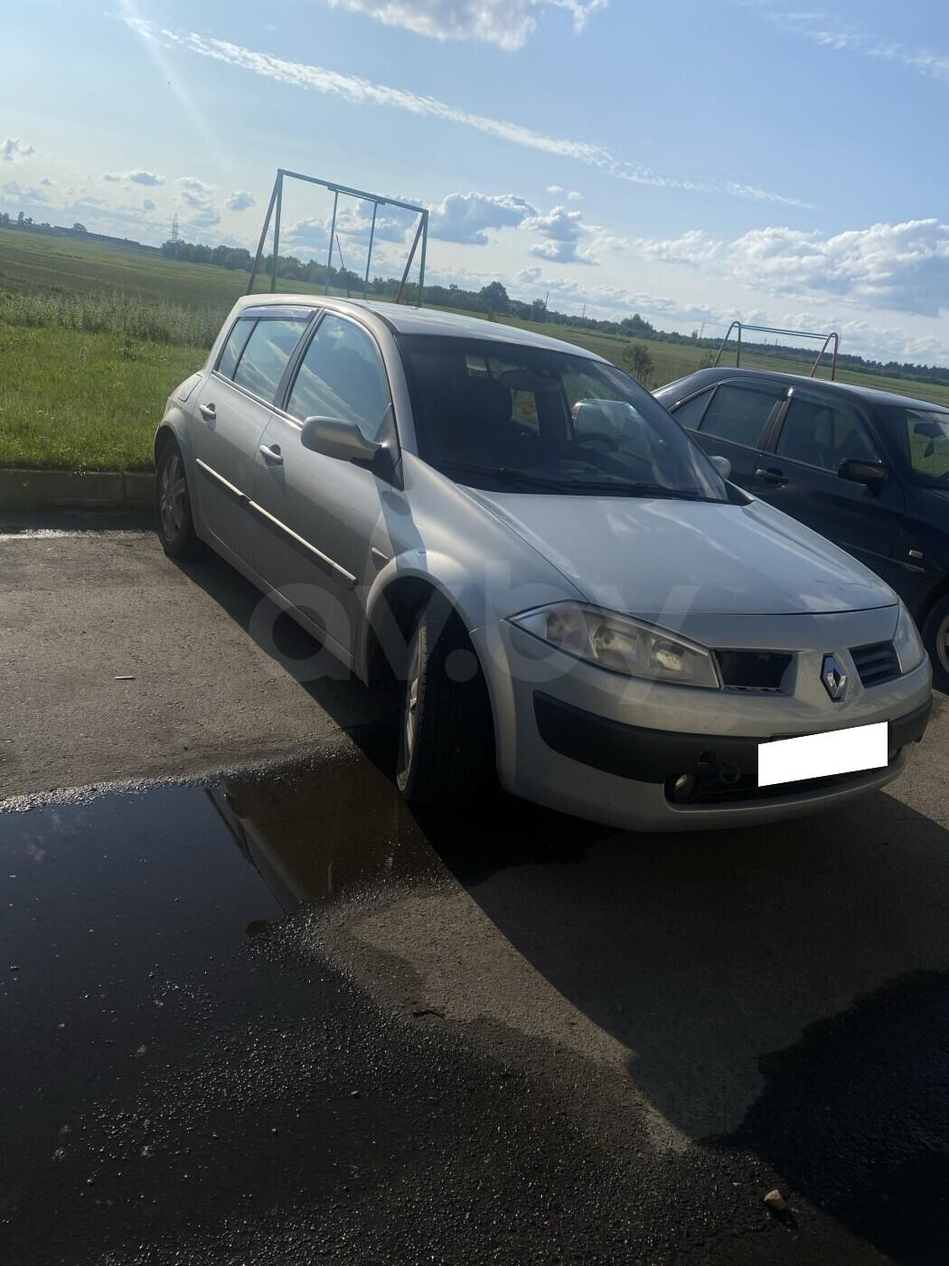Megane_2002-2006: (146, 277, 936, 899)
